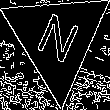N_SW: (31, 8, 83, 71)
